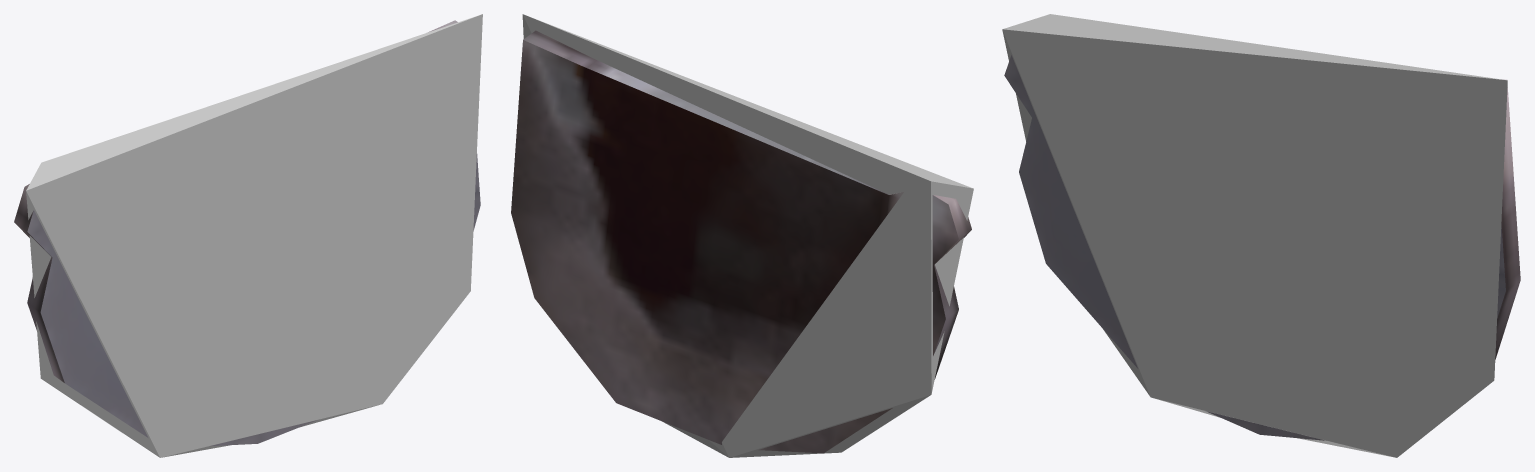
File: SM_PropRoofDrainage01_2.fbx
The picture shows the model from 3 angles, left to right: view 1: azimuth 30°, elevation 25°; view 2: azimuth 150°, elevation 25°; view 3: azimuth 330°, elevation 25°; orthographic projection. The views are drawn at different scales.
Visible parts, largest first — view 1: SM_PropRoofDrainage01_2_ConvexHulls, SM_PropRoofDrainage01_2; view 2: SM_PropRoofDrainage01_2, SM_PropRoofDrainage01_2_ConvexHulls; view 3: SM_PropRoofDrainage01_2_ConvexHulls, SM_PropRoofDrainage01_2.
Part boxes in pixels (x1=…): SM_PropRoofDrainage01_2_ConvexHulls: x1=26, y1=14, x2=482, y2=457; SM_PropRoofDrainage01_2: x1=14, y1=20, x2=480, y2=446; SM_PropRoofDrainage01_2: x1=511, y1=30, x2=971, y2=453; SM_PropRoofDrainage01_2_ConvexHulls: x1=522, y1=14, x2=973, y2=457; SM_PropRoofDrainage01_2_ConvexHulls: x1=1002, y1=14, x2=1507, y2=457; SM_PropRoofDrainage01_2: x1=1004, y1=55, x2=1520, y2=440.
Size of the model in its own units: 24.53 by 1.32 by 19.73.
Materials: 2 (1 with a texture image).
